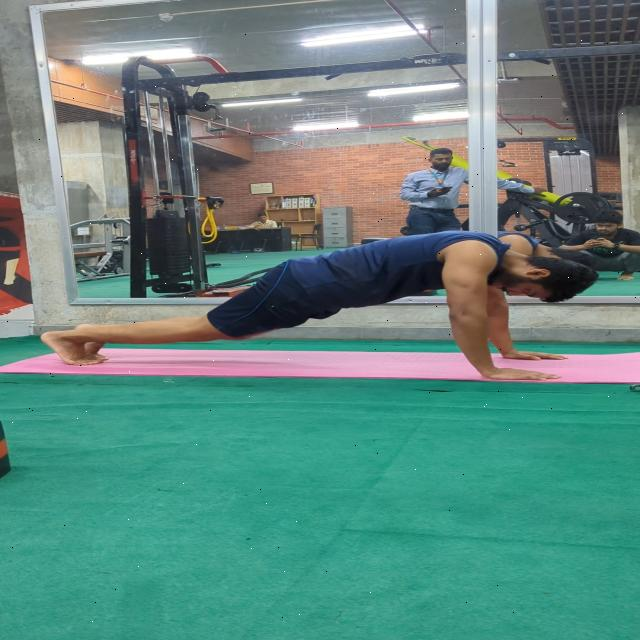Normal_MountainClimbers: (0, 216, 577, 397)
